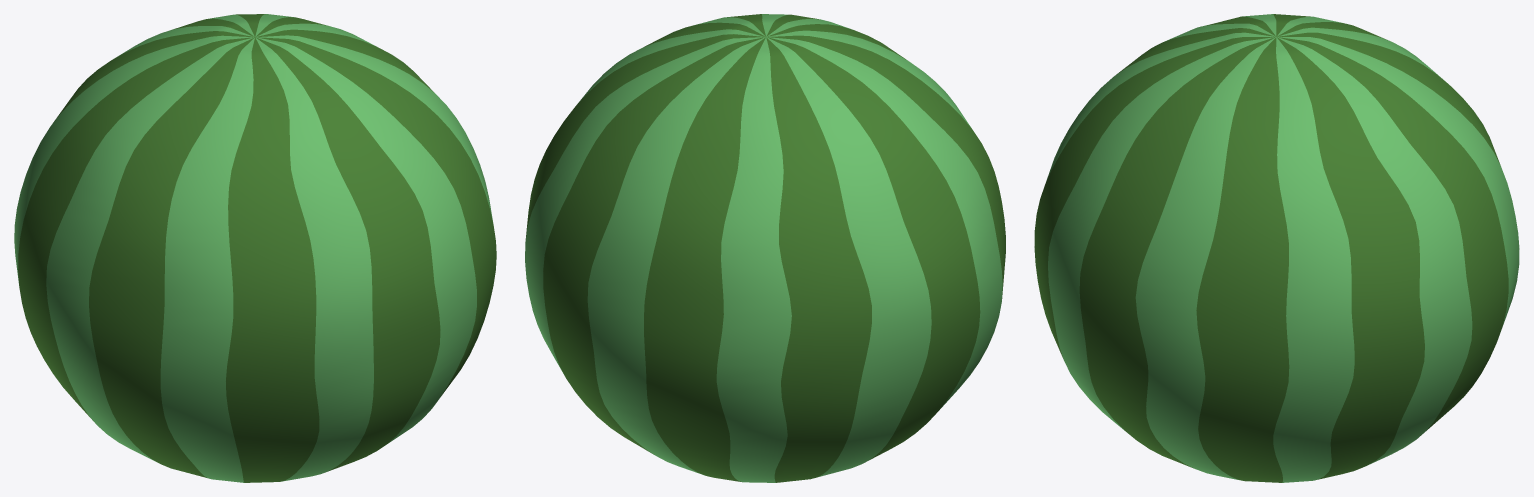
Rendered from Watermelon.fbx.
3 views of the same model, side by side, from view 1: azimuth 30°, elevation 25°; view 2: azimuth 150°, elevation 25°; view 3: azimuth 270°, elevation 25° (orthographic).
Visible parts, largest first — view 1: Watermelon; view 2: Watermelon; view 3: Watermelon.
Boxes of the visible parts, x1,y1,x2,y2 form: Watermelon: (14,14,496,482); Watermelon: (525,14,1005,482); Watermelon: (1034,14,1519,482).
Bounding box in the file's own units: 30.42 × 29.31 × 30.46.
